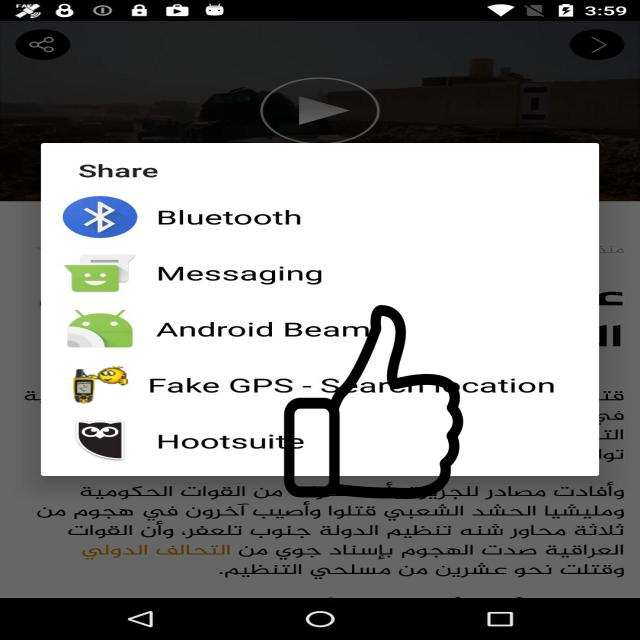privacy zuckering: (281, 305, 466, 499)
